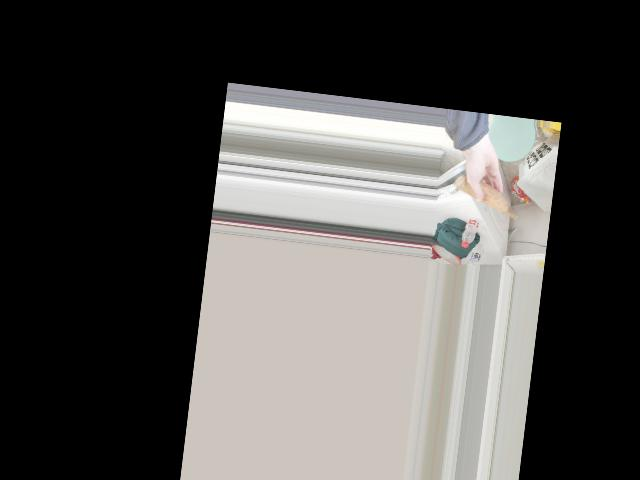sweet_potato: (455, 175, 505, 213)
